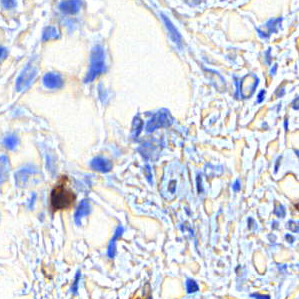Lymphocyte: (48, 183, 78, 209)
